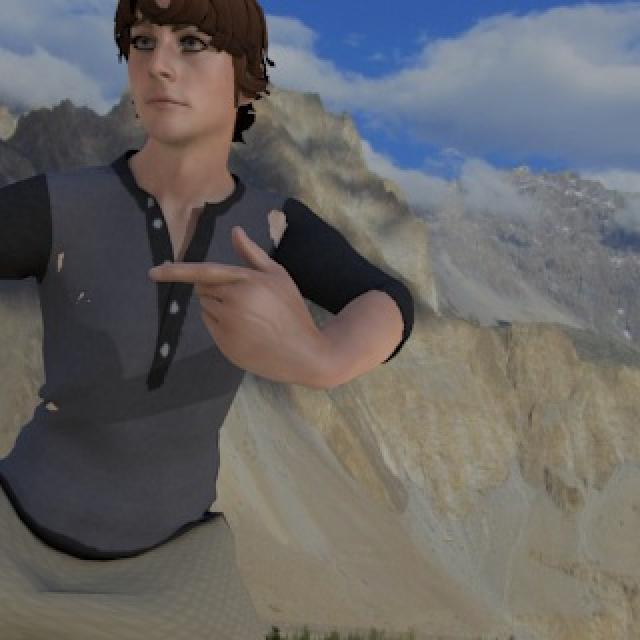not-gloved: (146, 215, 338, 408)
